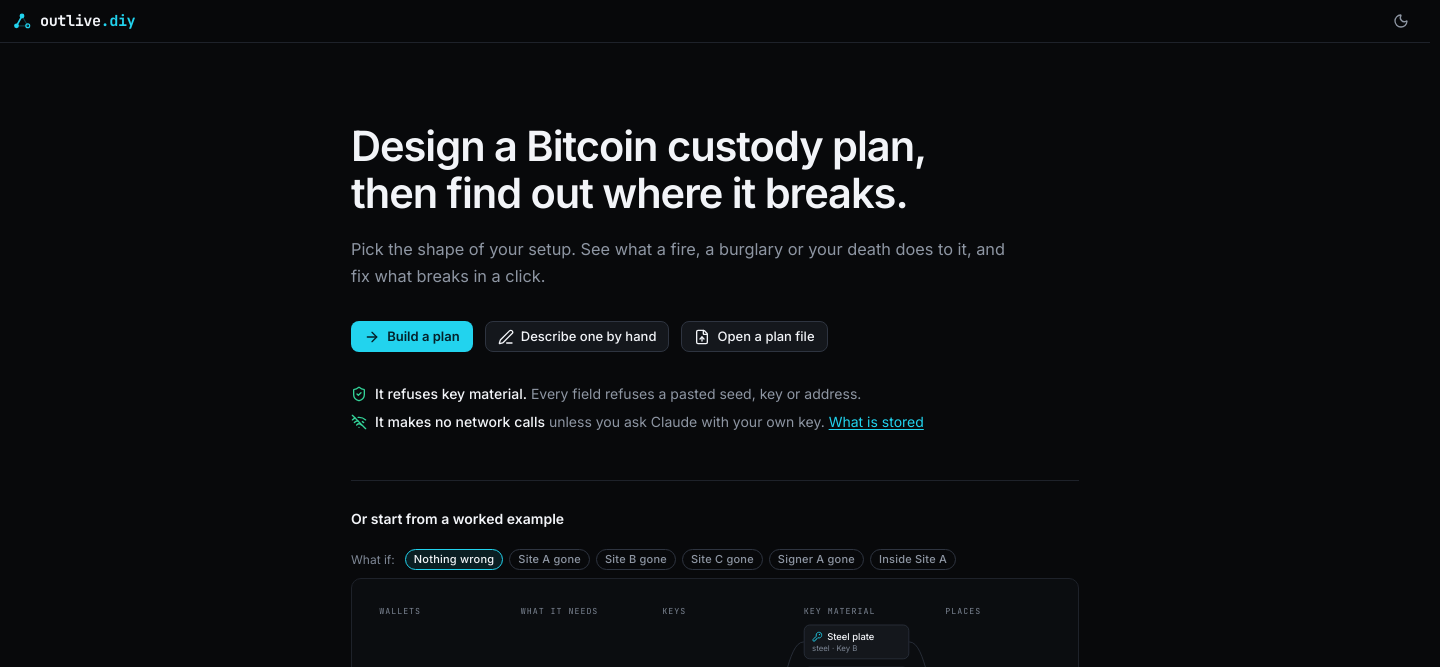
Scenario: the application › lets the landing picture be asked a question before anything is stored
Click the button "Site A gone" at x=550, y=560, box [509,549,590,570]
(page scrolled)
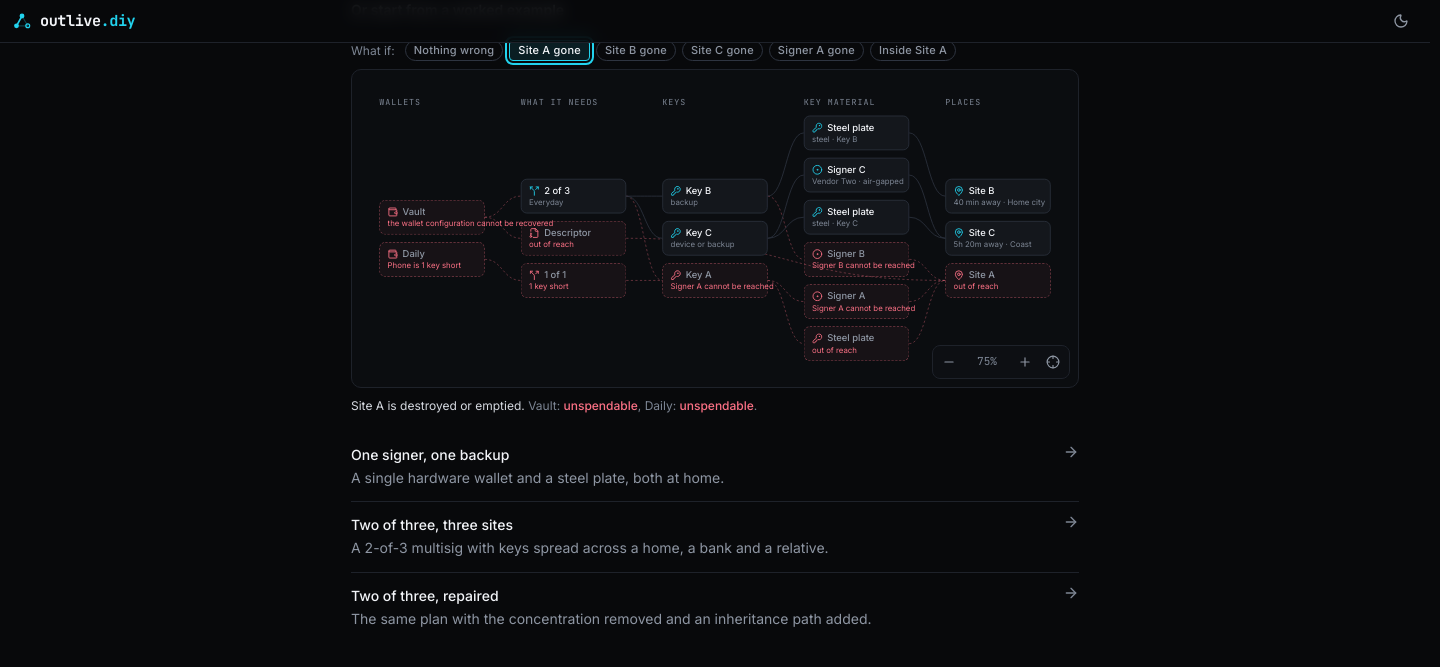
Expected: the text "Site A is destroyed or emptied." is shown, [351,398,525,413]
Expected: the 1st text "unspendable" is shown, [564,398,638,413]
